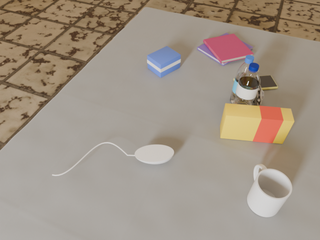book: (197, 33, 253, 66), (203, 34, 254, 63)
bottle: (232, 62, 261, 106), (230, 55, 254, 103)
box: (220, 104, 294, 144), (147, 46, 181, 78)
cup: (247, 164, 292, 217)
mouse: (135, 145, 174, 164)
phone: (234, 76, 278, 90)
toy_car: (253, 85, 264, 106)
